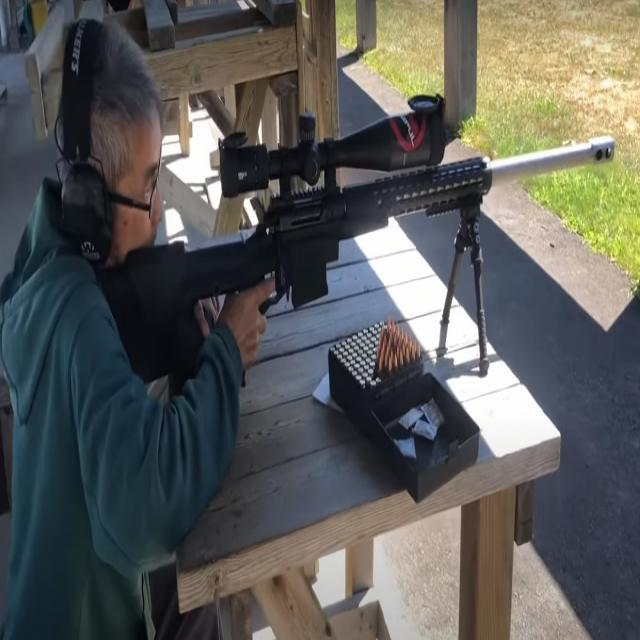rifle: (101, 82, 620, 414)
